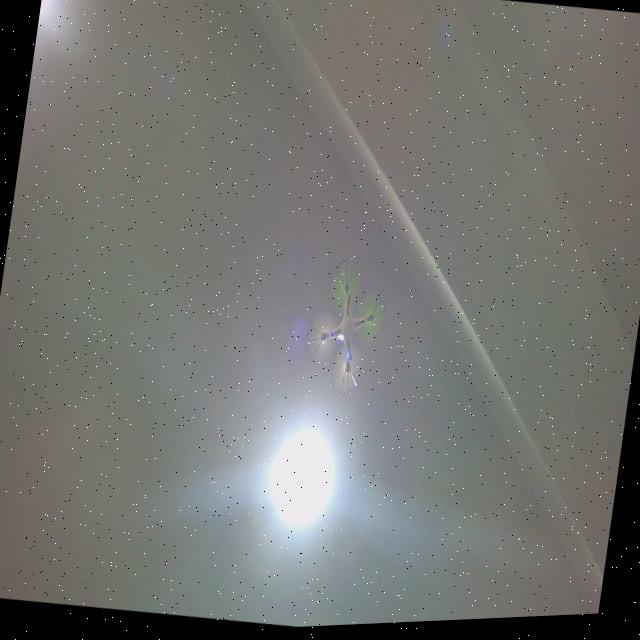drone: (296, 251, 397, 409)
